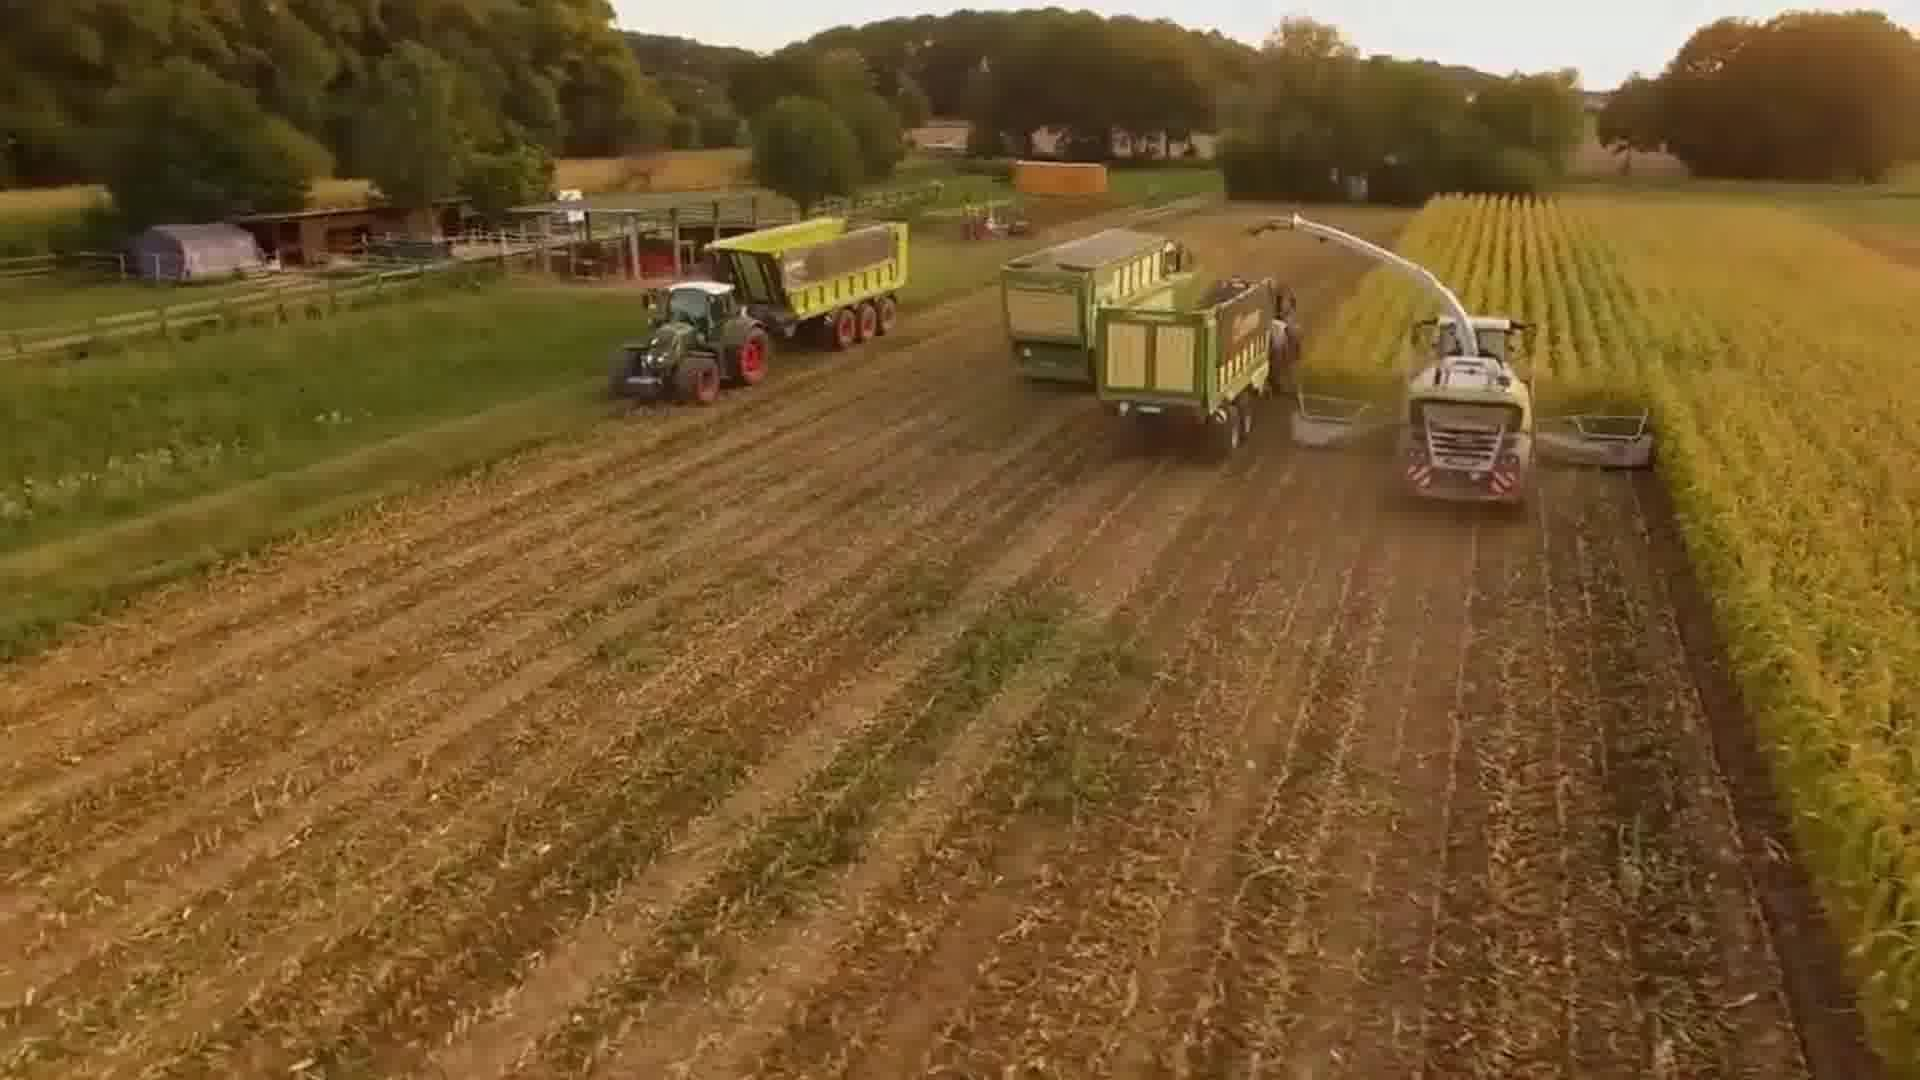combine harvester: (1245, 207, 1664, 512)
tractor: (605, 277, 783, 406), (1271, 280, 1304, 372)
trailer: (1095, 268, 1276, 463), (997, 225, 1179, 396), (700, 210, 914, 353)
